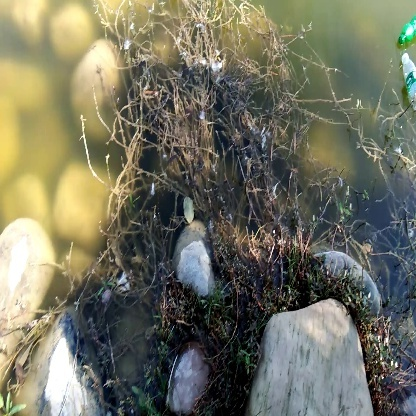bottle: (393, 50, 416, 102)
